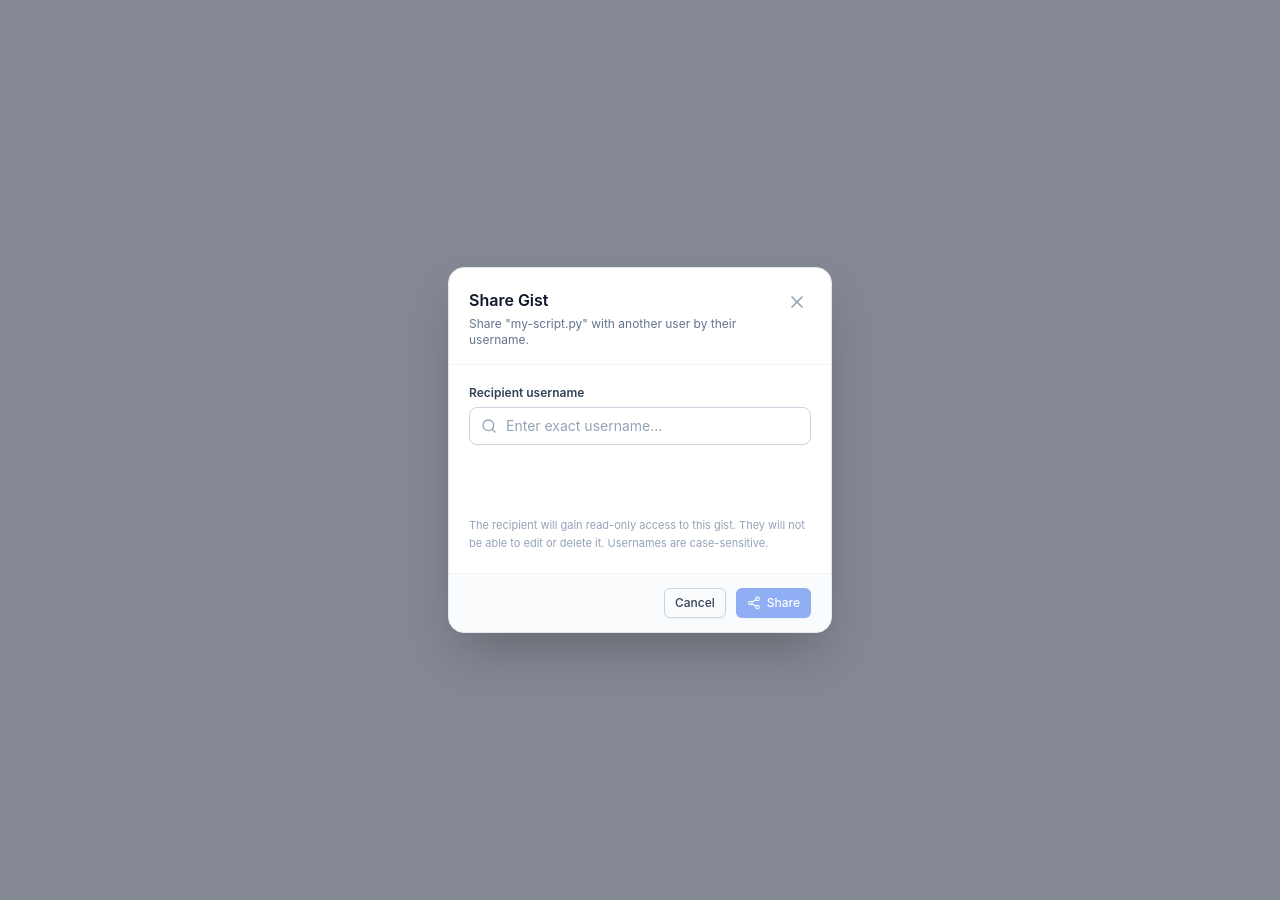
Test: ShareGistModal — sharing submission › shows success state after a successful share
The image size is (1280, 900).
Type "bob" into the field labelled "Recipient username" at (640,426), box [469, 407, 811, 445]
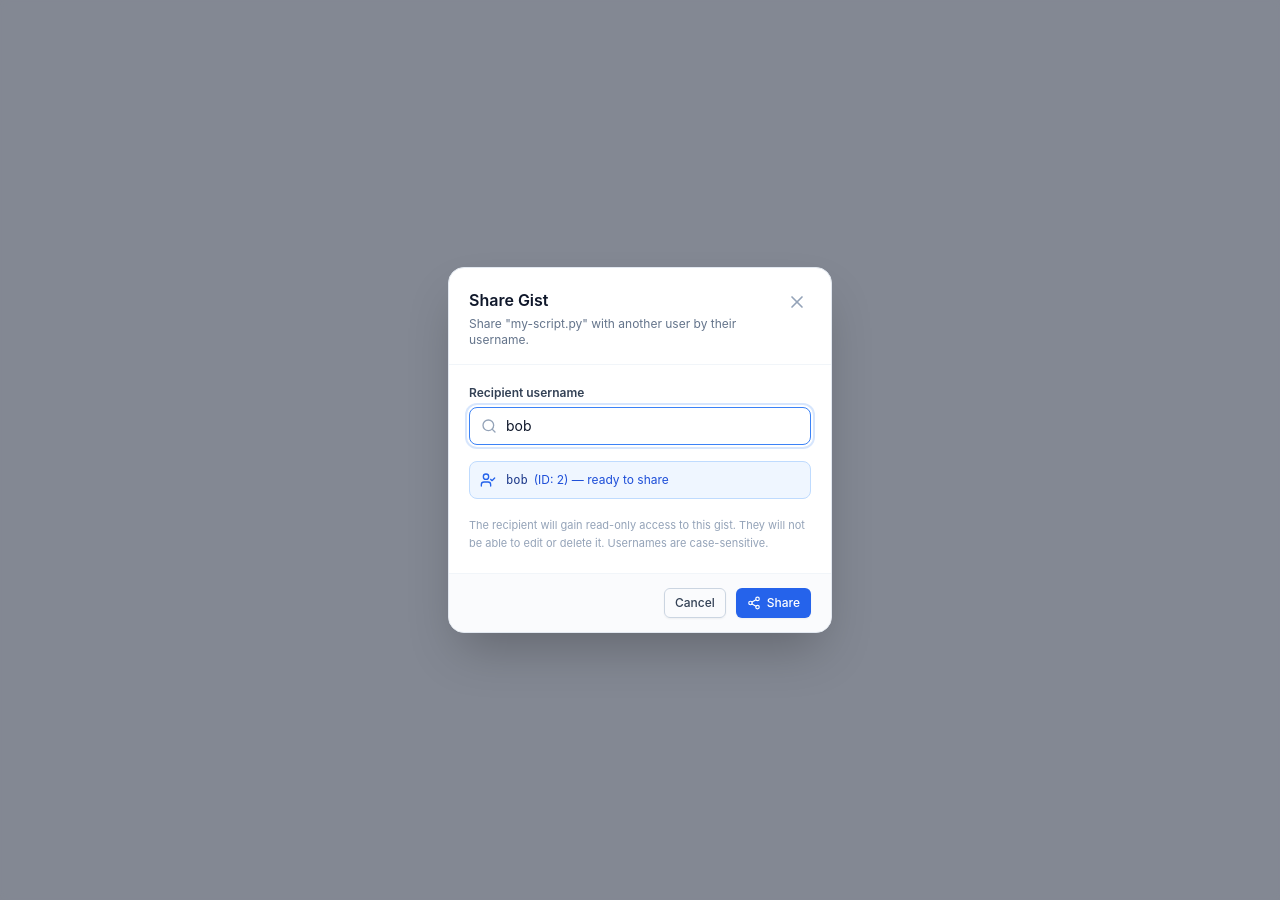
Expected: the text "(ID: 2) — ready to share" is shown, [534, 472, 669, 487]
Click the button "Share" at (773,603), box [736, 588, 811, 618]
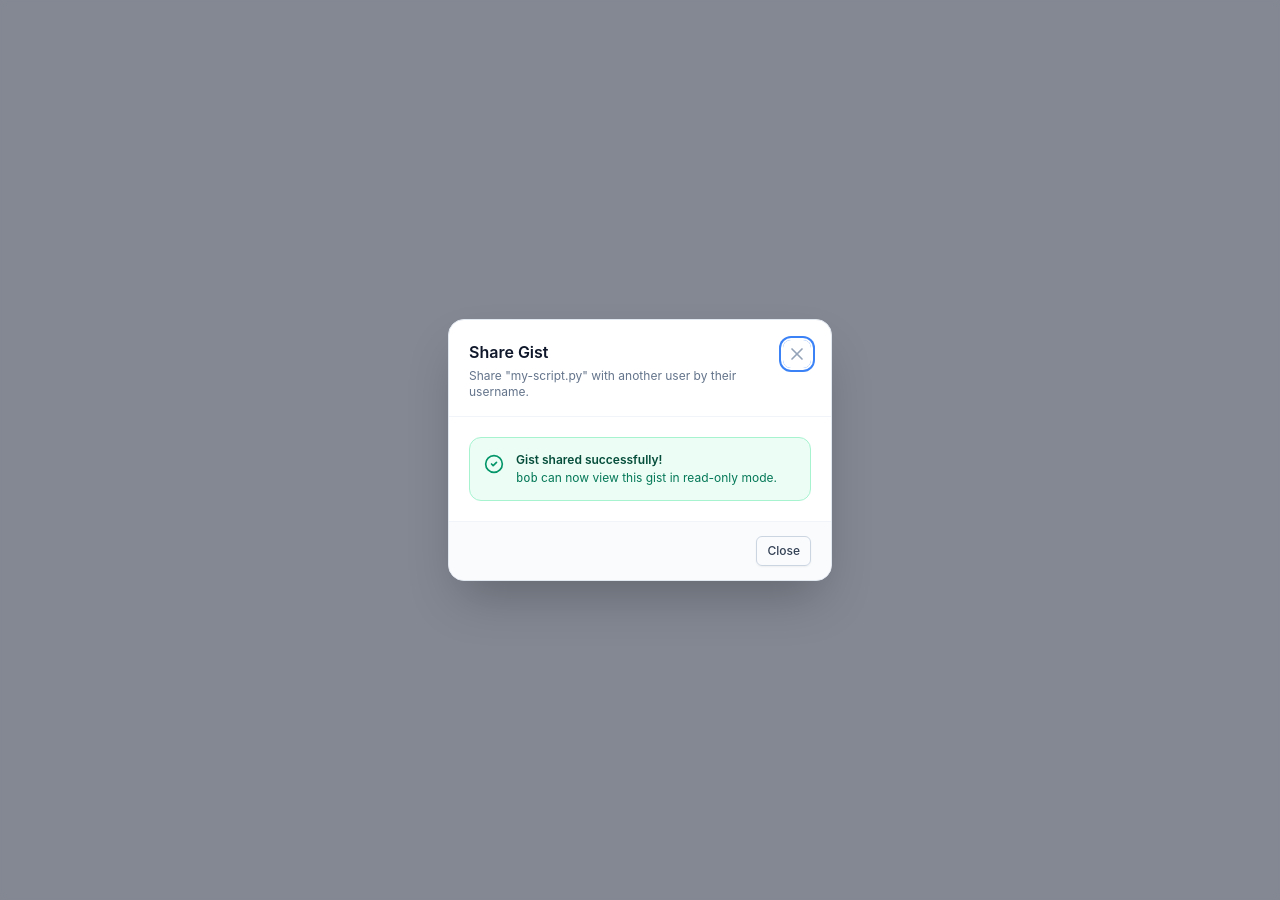
Expected: the text "bob" is shown, [516, 471, 538, 485]
Expected: the text "Gist shared successfully!" is shown, [516, 452, 662, 467]
